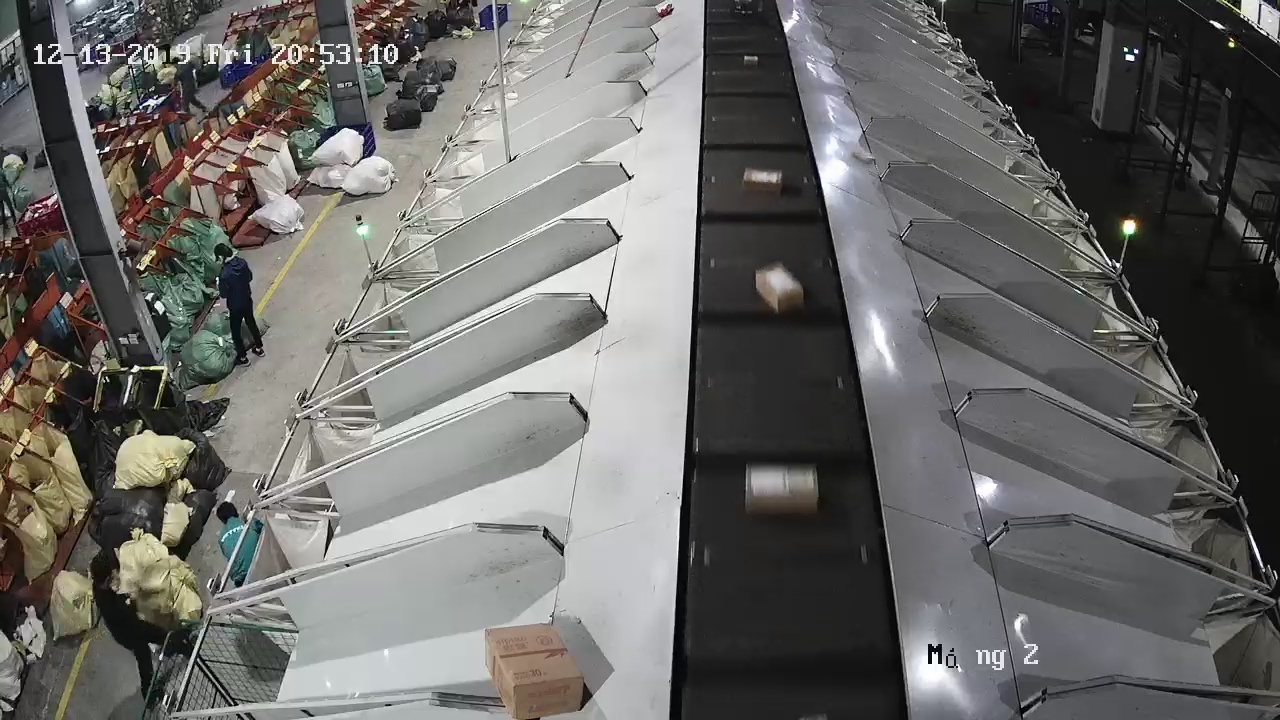parcel: (851, 146, 877, 164)
